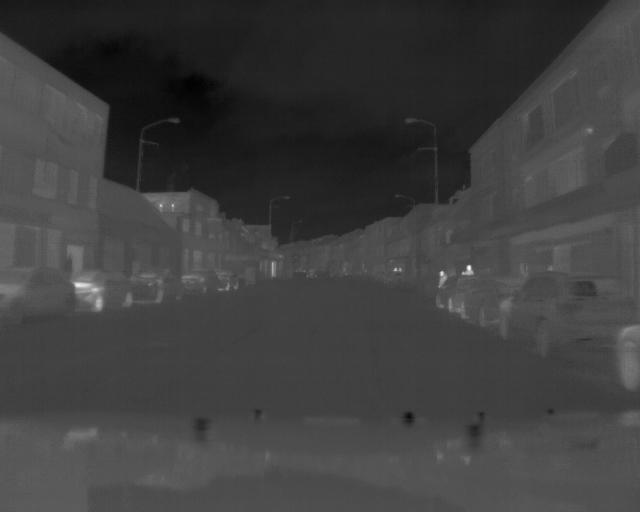car: (498, 272, 609, 352), (1, 264, 75, 329), (75, 264, 137, 312), (138, 263, 188, 304), (182, 268, 221, 296)
person: (458, 260, 477, 276), (437, 267, 447, 287)
